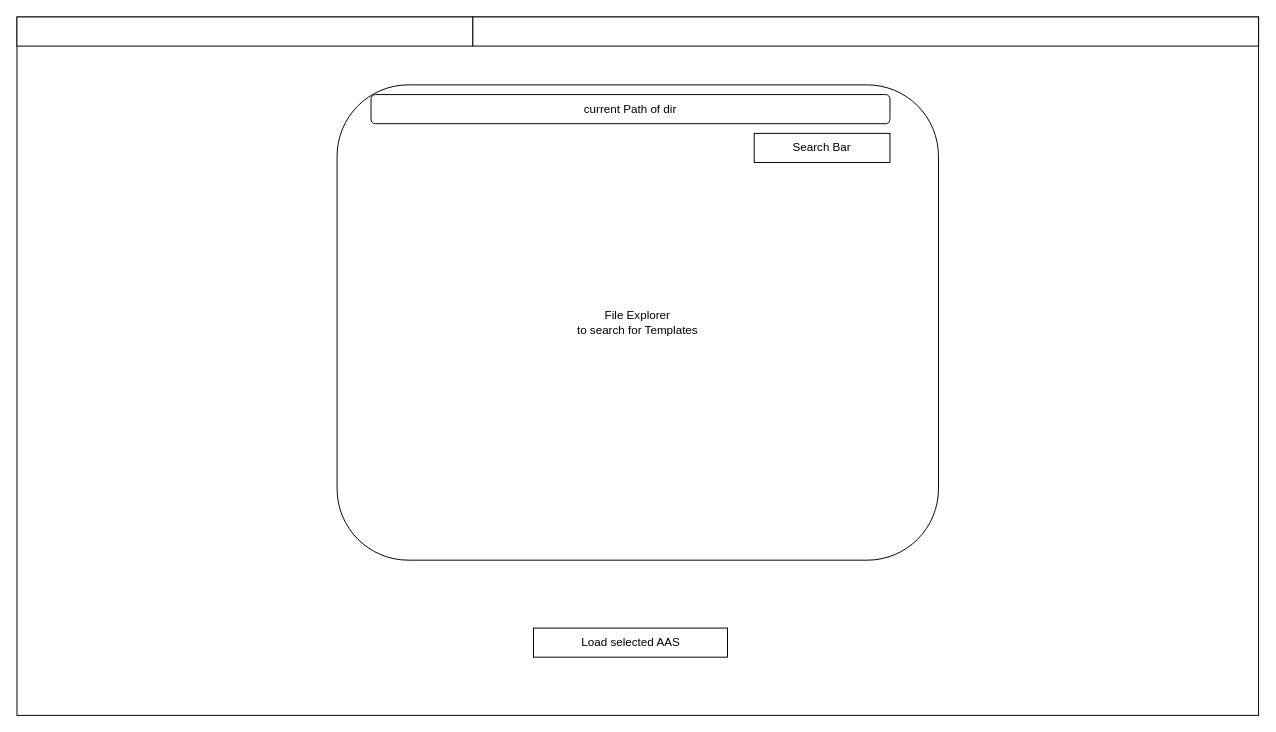
Image size: 1276x732. Some labels were removed from this diagram. The centre of each missing label's shape, as x and y in pixels:
Free for Text: point 865,31
MENÜ: point 244,31
